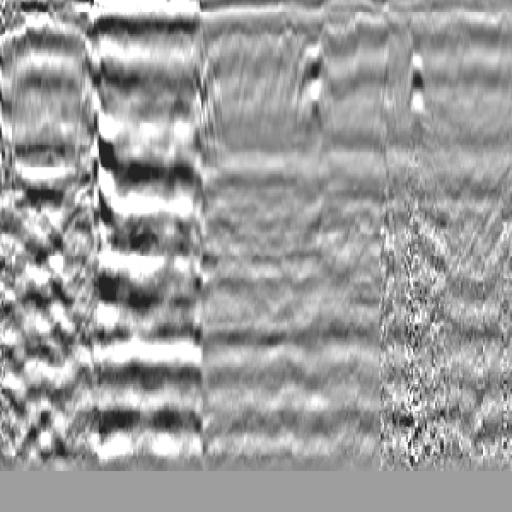non-metallic: (279, 41, 345, 127), (389, 42, 443, 142)
